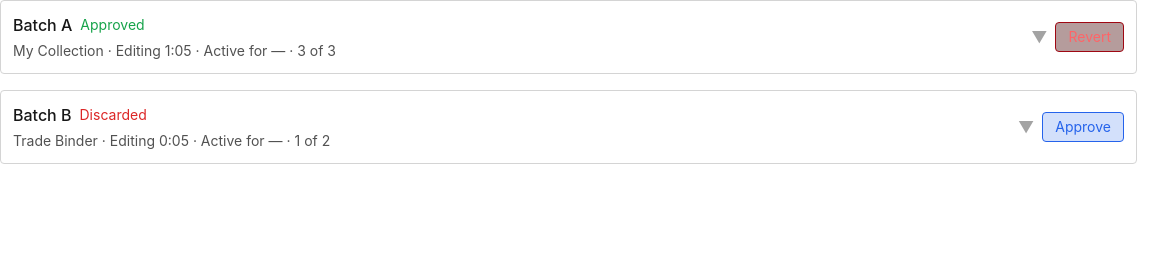
Test case: BatchHistoryList › opening one batch closes a previously-open one
Click the button "Batch A": click(43, 25) [13,13,1048,61]
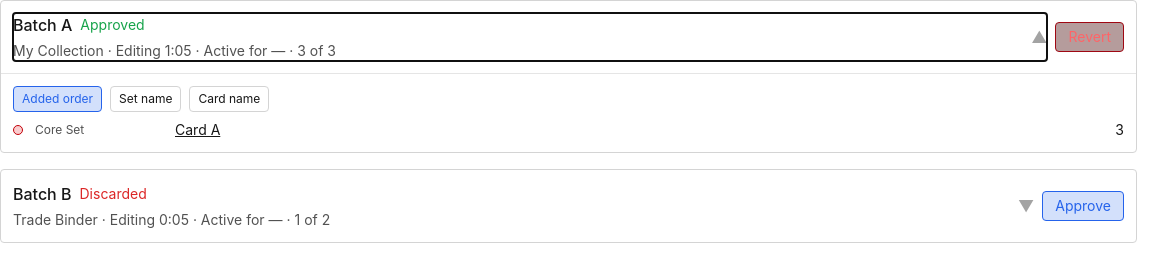
Expected: the button "Card A" is shown, [175,120,220,140]
Click the button "Batch B": click(42, 194) [13,182,1034,230]
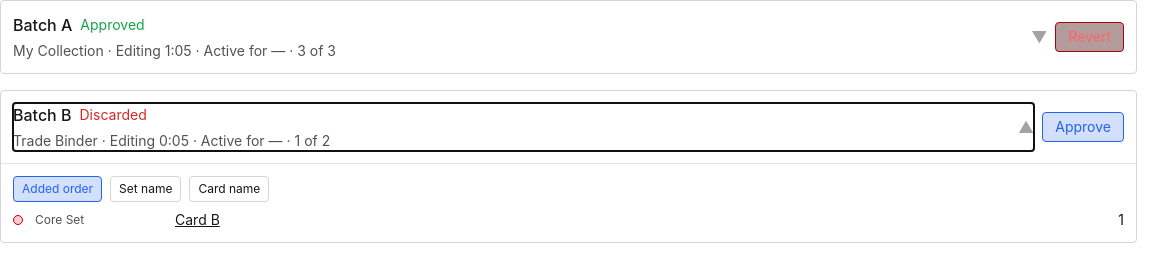
Expected: the button "Card A" is gone
Expected: the button "Card B" is shown, [175,210,220,230]
